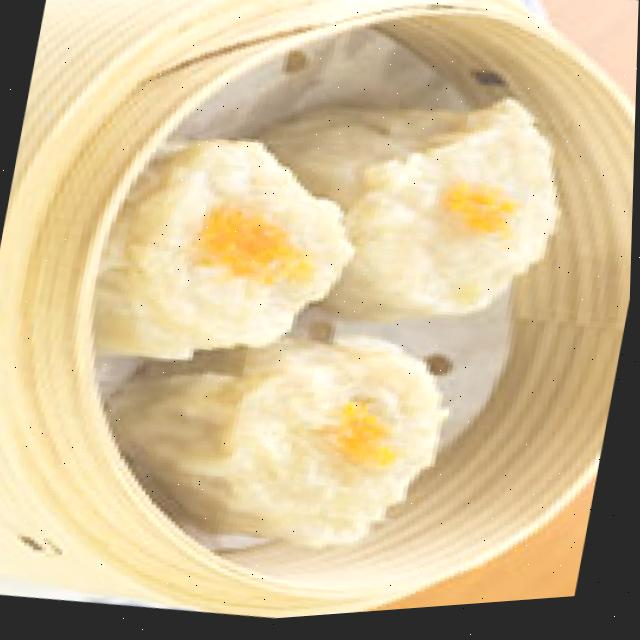带馅早点: (62, 44, 588, 592)
